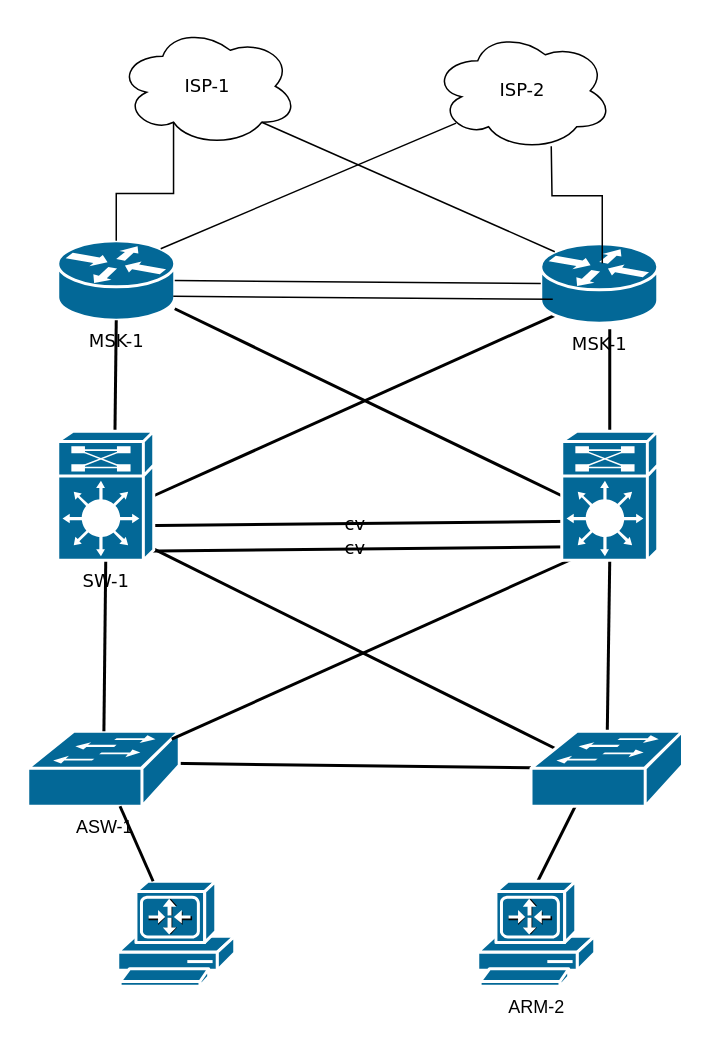
Some shapes in this 710 by 1044 pixel diagram are drawn without their labels. Here are the shapes that lost their labels. From the top down, the centre of each, then its label:
At point 609,495: "SW-2".
At point 606,768: "ASW-2".
At point 176,933: "ARM-1".
